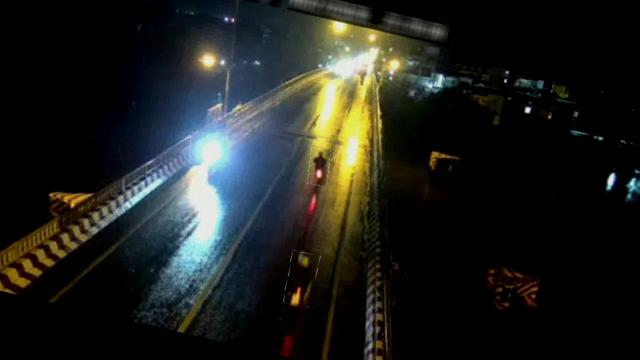Bike: (282, 250, 321, 308), (185, 128, 232, 171), (304, 146, 334, 188)
